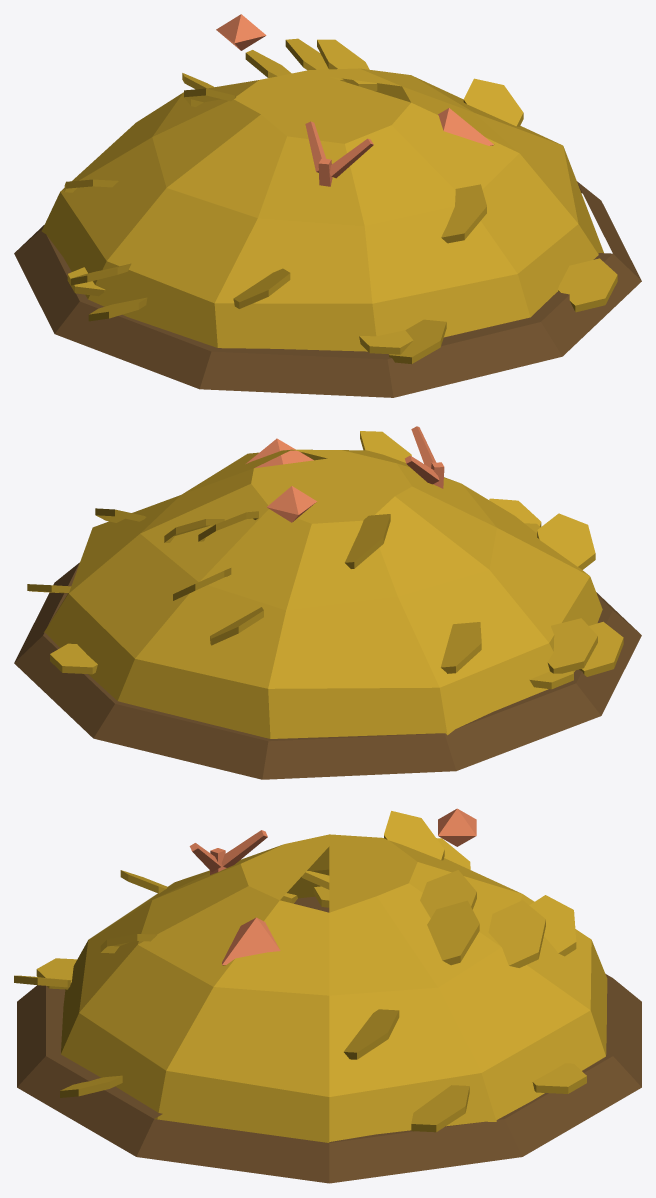
File: TreasureMound.fbx
The picture shows the model from 3 angles, top to bottom: view 1: azimuth 30°, elevation 25°; view 2: azimuth 150°, elevation 25°; view 3: azimuth 270°, elevation 25°; orthographic projection. The views are drawn at different scales.
Parts seen in each view (by area): view 1: TreasureMound; view 2: TreasureMound; view 3: TreasureMound.
Boxes of the visible parts, box(x1,y1,x2,y2) form: TreasureMound: box(14, 14, 641, 397); TreasureMound: box(14, 426, 641, 779); TreasureMound: box(14, 808, 641, 1183).
Bounding box in the file's own units: 216 × 81 × 206.
